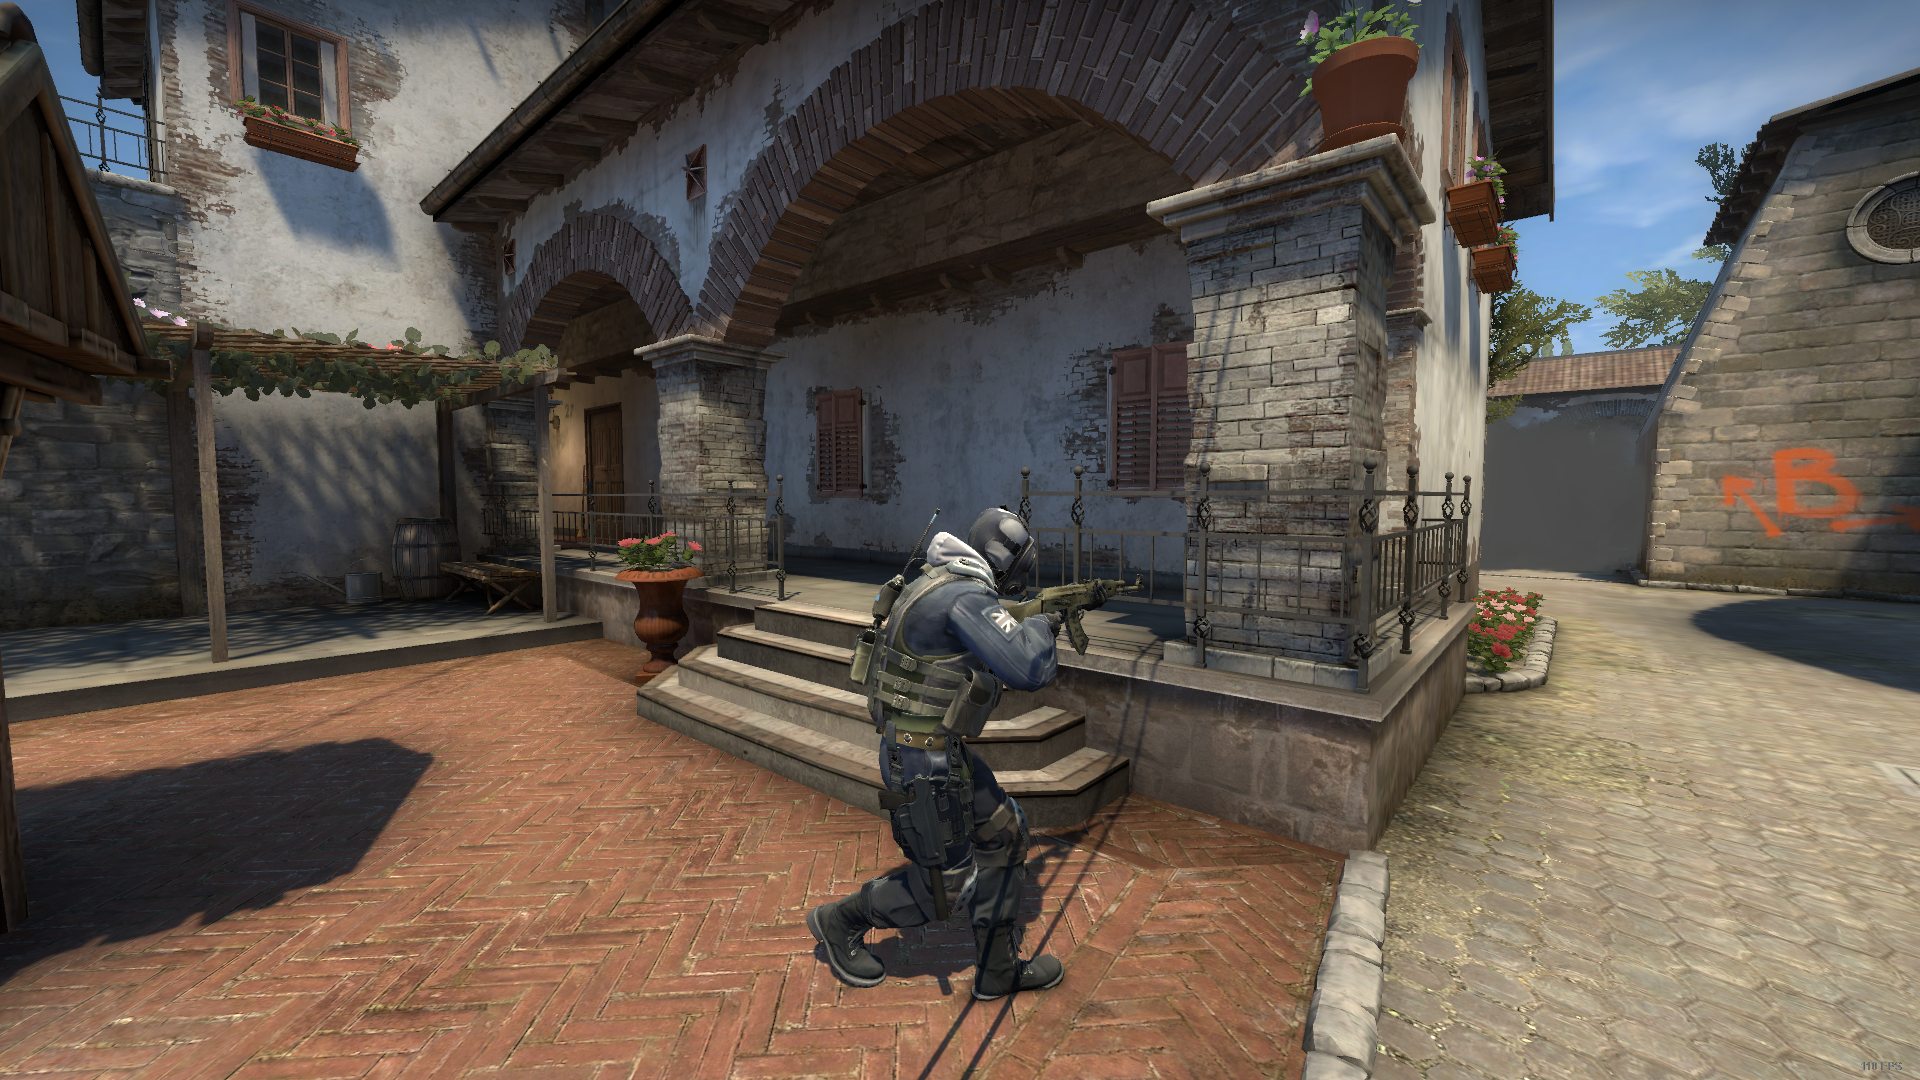ct: (787, 492, 1112, 1023)
